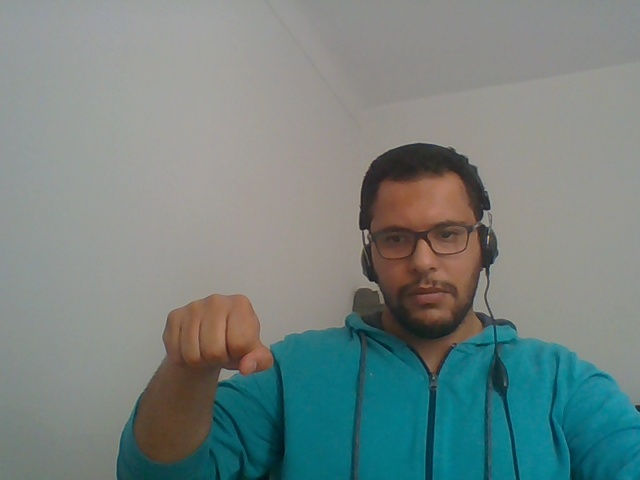yes: (138, 264, 284, 398)
